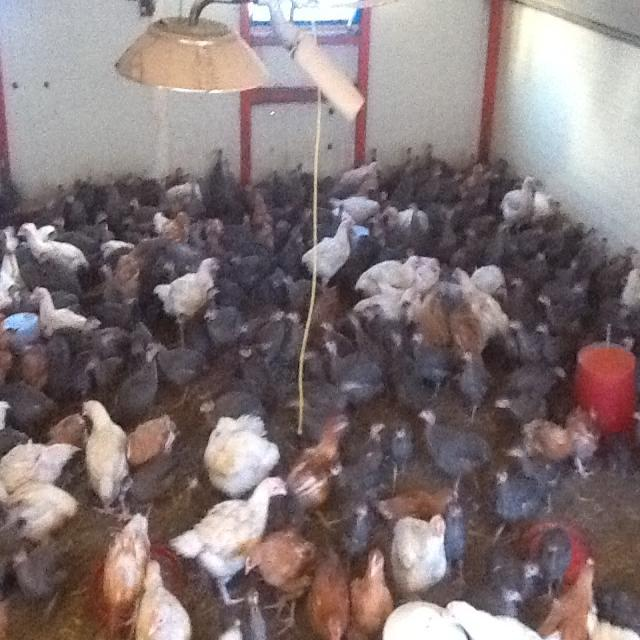poussin: (169, 476, 286, 606), (196, 406, 284, 495), (411, 397, 493, 491), (94, 510, 152, 626), (380, 508, 447, 605), (238, 530, 309, 610), (298, 407, 348, 518), (2, 542, 80, 610), (84, 397, 127, 516), (550, 552, 608, 640), (156, 256, 222, 330), (322, 335, 382, 413), (119, 443, 184, 511), (455, 261, 507, 345), (16, 213, 87, 274), (0, 436, 77, 492), (305, 216, 360, 294), (138, 562, 190, 640), (308, 548, 352, 640), (492, 466, 552, 530), (169, 218, 229, 282), (367, 484, 458, 526), (16, 481, 73, 545), (122, 410, 182, 470), (1, 374, 61, 434), (346, 416, 388, 500), (566, 402, 610, 482), (34, 280, 85, 346), (152, 332, 210, 390), (196, 390, 266, 435), (116, 354, 168, 412), (536, 524, 580, 592), (410, 324, 454, 392), (384, 144, 436, 201), (524, 416, 576, 471), (93, 250, 142, 308), (80, 342, 127, 402), (494, 381, 548, 433), (383, 320, 414, 410), (86, 311, 145, 358), (356, 547, 386, 639), (361, 252, 421, 296), (460, 581, 528, 619), (283, 306, 315, 386), (464, 153, 514, 204), (488, 552, 544, 597), (241, 345, 281, 408), (537, 284, 573, 353), (440, 499, 472, 572), (43, 408, 89, 458), (208, 300, 248, 356), (514, 358, 576, 394), (271, 222, 312, 276), (458, 348, 490, 416), (529, 177, 564, 236), (246, 265, 282, 322), (510, 268, 540, 336), (615, 265, 640, 346), (551, 210, 584, 270), (60, 220, 117, 254), (118, 163, 165, 204), (498, 176, 535, 228), (338, 160, 388, 198), (349, 304, 379, 364), (611, 242, 640, 304), (280, 273, 316, 322), (432, 201, 462, 259), (585, 234, 615, 292), (418, 290, 450, 344), (412, 160, 452, 203), (154, 157, 192, 202), (0, 232, 20, 317), (42, 178, 82, 220), (73, 172, 115, 212), (535, 317, 565, 372), (448, 301, 479, 354), (528, 242, 558, 296), (278, 164, 308, 218), (329, 192, 382, 222), (512, 313, 540, 368), (258, 211, 282, 275), (392, 423, 419, 479), (448, 156, 483, 198), (247, 182, 274, 236), (380, 206, 427, 237), (564, 284, 601, 322), (283, 264, 310, 316), (0, 305, 17, 387), (453, 228, 481, 274), (225, 208, 258, 247), (24, 342, 51, 389), (556, 255, 584, 300), (230, 248, 258, 293), (348, 500, 372, 552), (211, 146, 233, 200), (121, 198, 153, 235), (268, 302, 288, 356), (490, 215, 513, 261), (146, 204, 174, 240), (318, 316, 350, 347), (168, 187, 198, 217), (237, 314, 269, 341), (95, 202, 111, 232)
